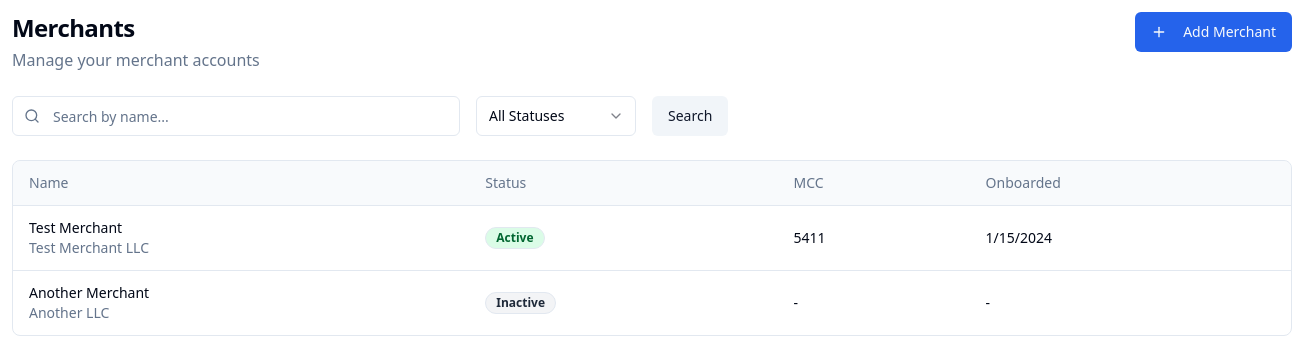
Test: MerchantsPage › should clear filters when clicking Clear
Type "Test" into the search field with placeholder "Search by name..." at [236, 116], box [12,96,460,136]
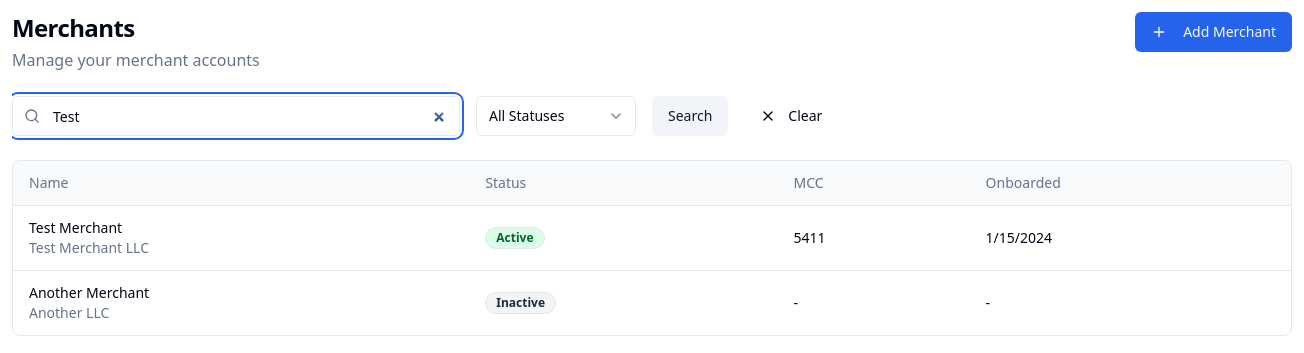
Click the button "Search" at [690, 116], box [652,96,728,136]
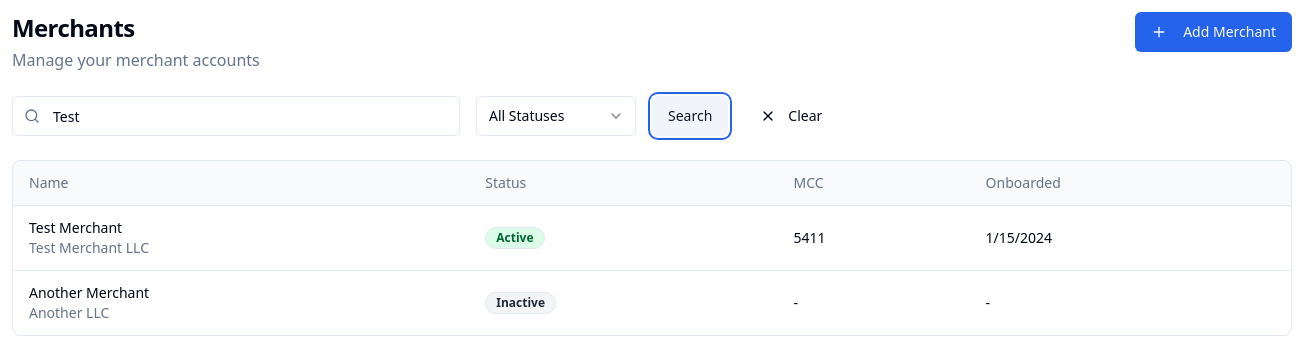
// Clear button should appear
Click the button "Clear" at [791, 116], box [744,96,838,136]
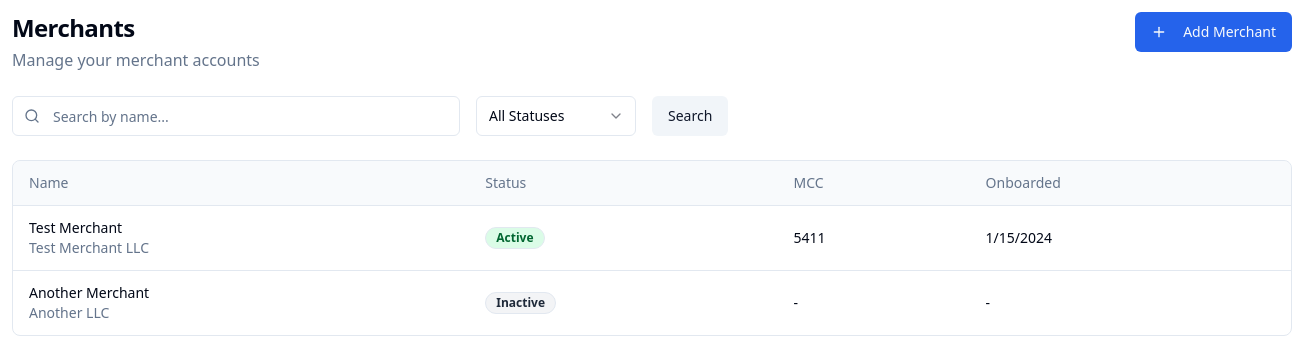
Expected: the search field with placeholder "Search by name..." is empty, [12,96,460,136]
